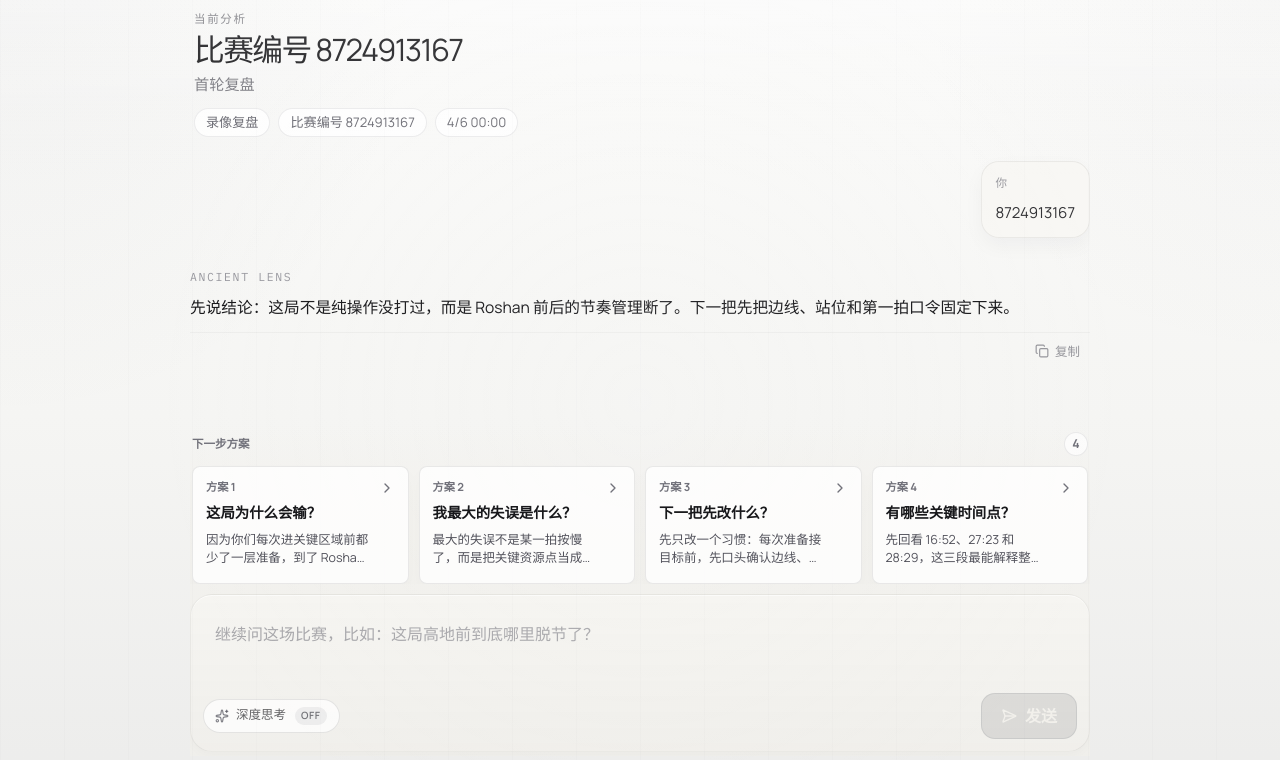
Test: ResultView › keeps a typed draft when a completed answer syncs back from the parent
Type "first question" into the text box with id "analysis-follow-up".
click(640, 645); type("first question")  # box [203,607,1077,683]
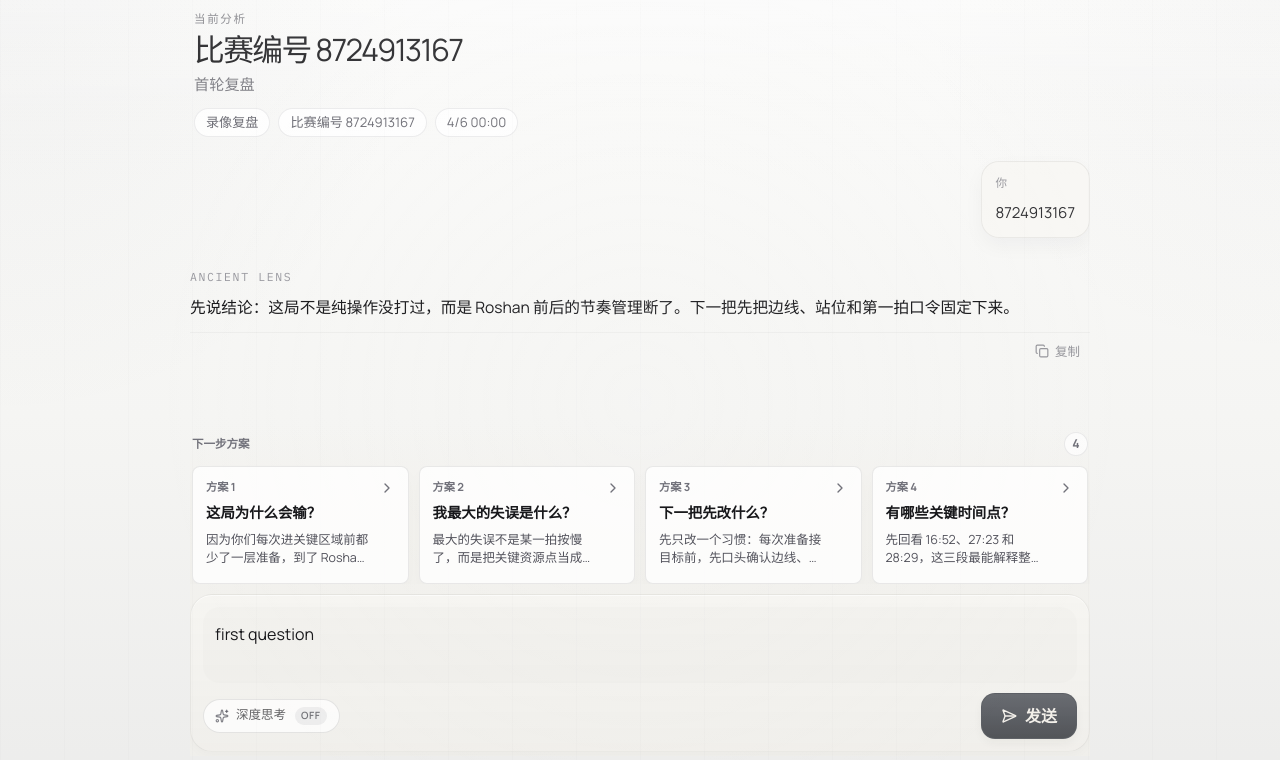
Click the button with class "analysis-chat-send".
click(1029, 716)  # box [981,693,1077,739]
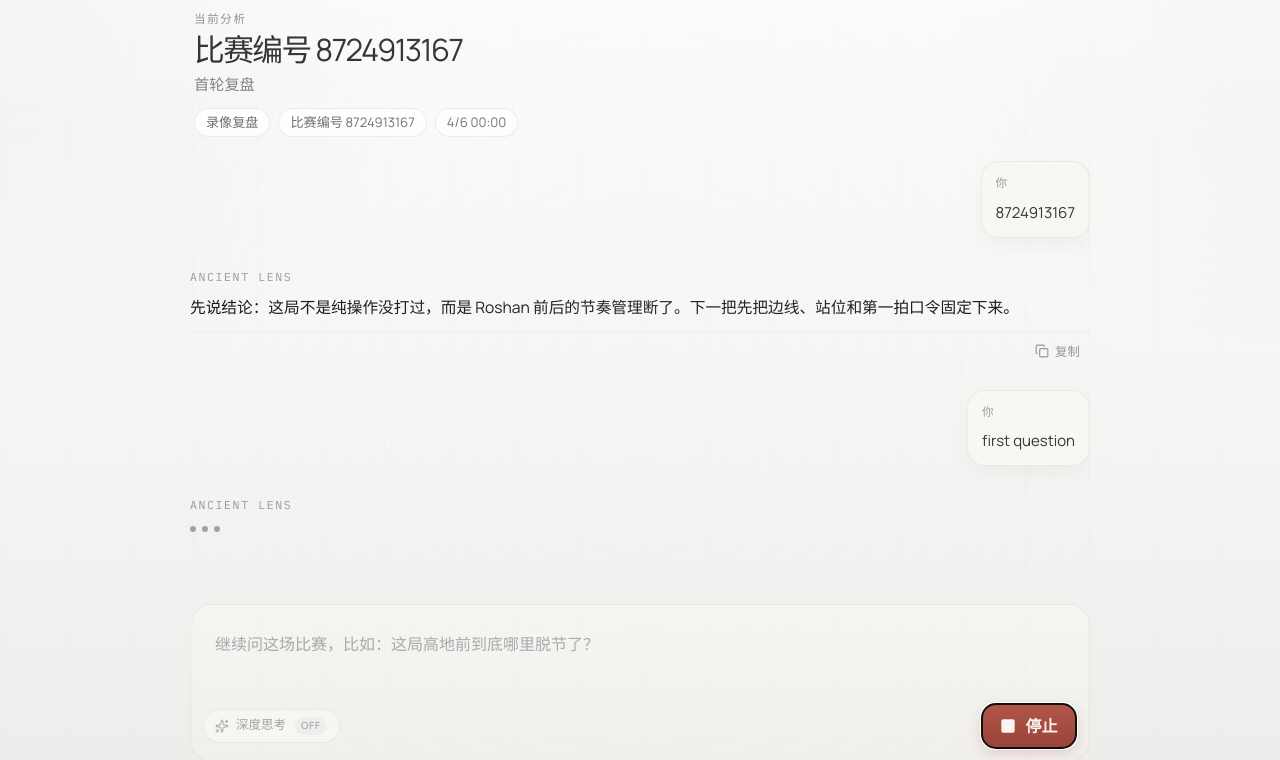
Result: the text box with id "analysis-follow-up" is empty
Type "draft while waiting" into the text box with id "analysis-follow-up".
click(640, 655); type("draft while waiting")  # box [203,617,1077,693]
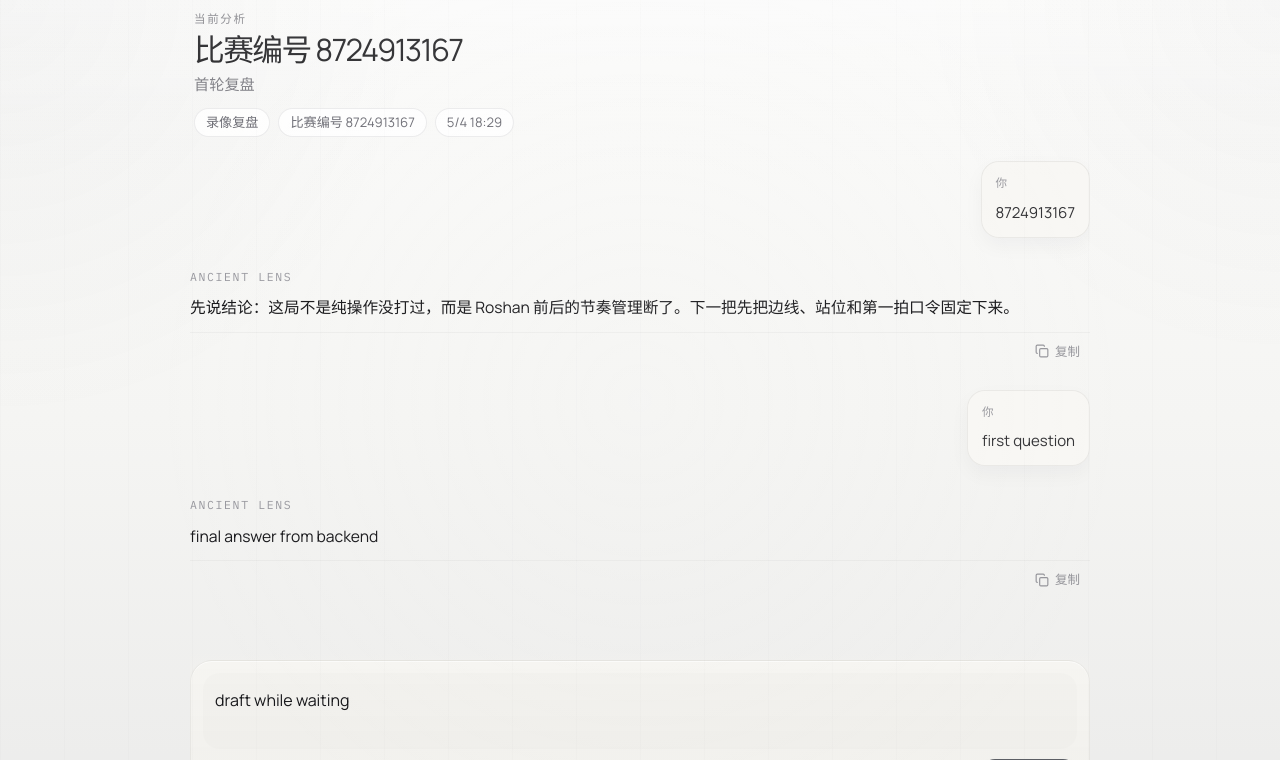
Result: the text "final answer from backend" is shown at [190,525,378,547]
